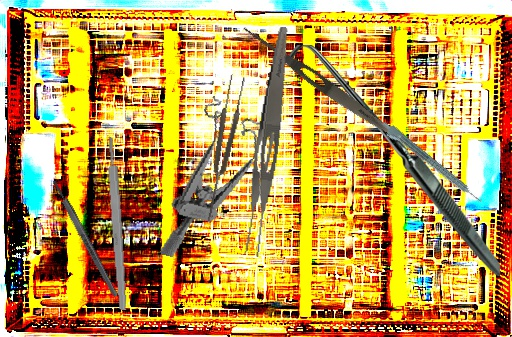Dressing Forceps: (237, 21, 394, 138), (240, 25, 293, 258)
Handpiece: (377, 119, 484, 209)
Hook Surgical: (287, 45, 500, 276)
Scalpel Handle: (50, 178, 120, 299), (105, 136, 129, 311)
Speculum: (159, 92, 269, 271)
Tissue Forceps: (198, 73, 248, 225)
